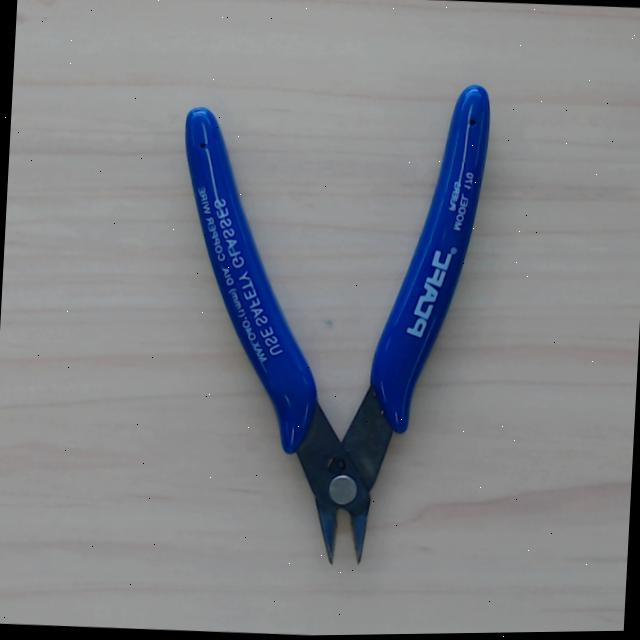Tang-Potong-Biru: (182, 84, 515, 569)
